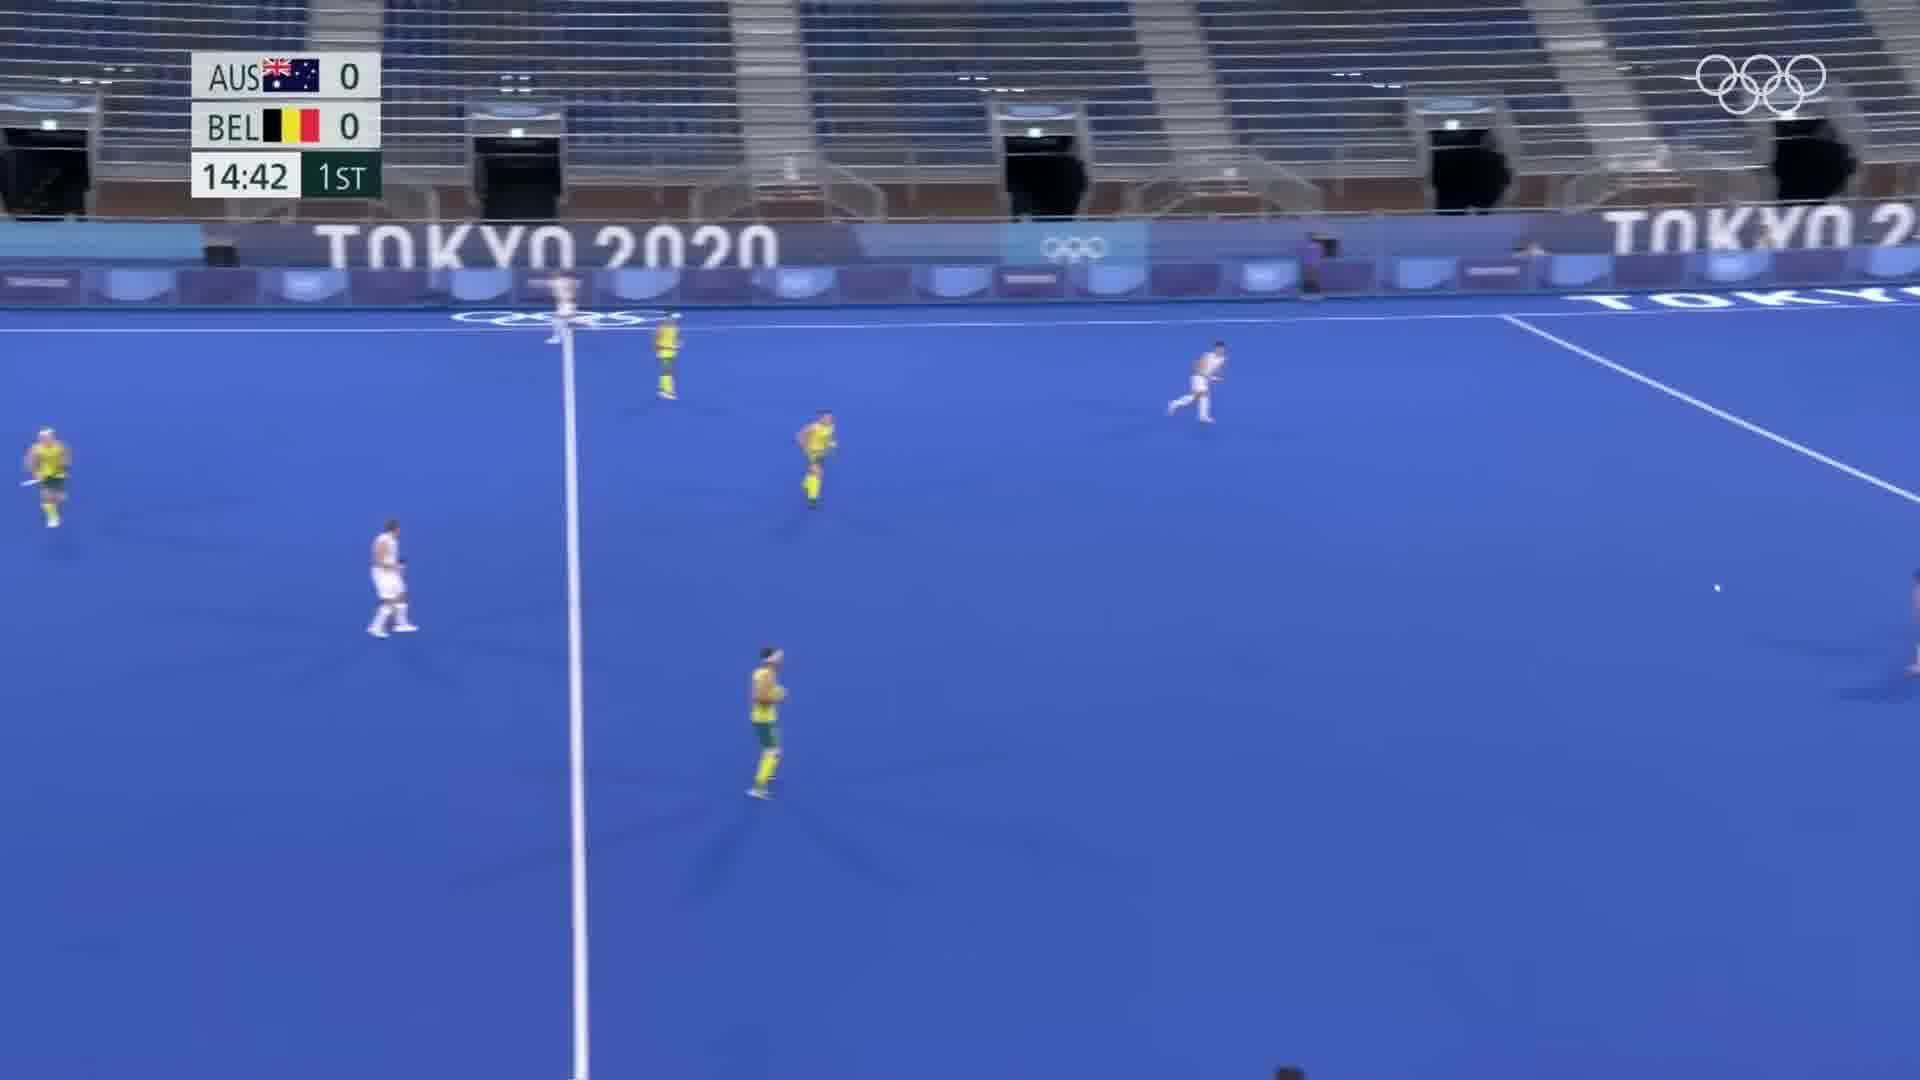ball: (1710, 568, 1737, 603)
